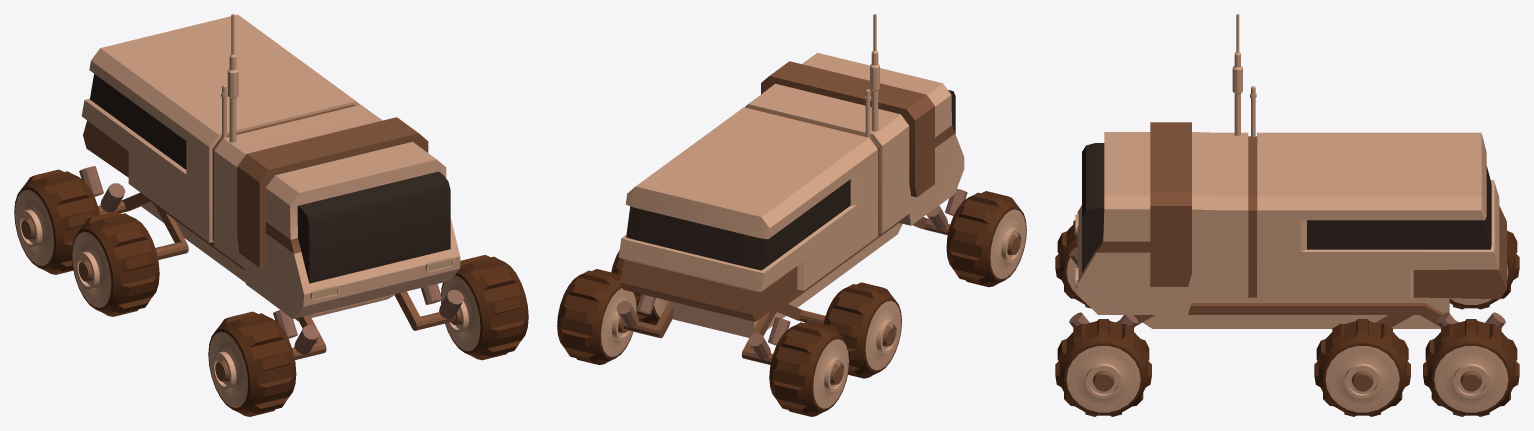
Rendered from quaternius-ultimate-space-rover-2-transformed.glb.
3 renders of one model, left to right at view 1: azimuth 30°, elevation 25°; view 2: azimuth 150°, elevation 25°; view 3: azimuth 270°, elevation 25°, orthographic. The views are drawn at different scales.
Parts seen in each view (by area): view 1: Wheel_1; view 2: Wheel_1; view 3: Wheel_1.
Part boxes in pixels (bbox=[...]): Wheel_1: bbox=[14, 14, 528, 416]; Wheel_1: bbox=[557, 14, 1026, 416]; Wheel_1: bbox=[1055, 14, 1519, 416].
Bounding box in the file's own units: 4.58 × 4.88 × 6.56.
1 material, 1 textured.
